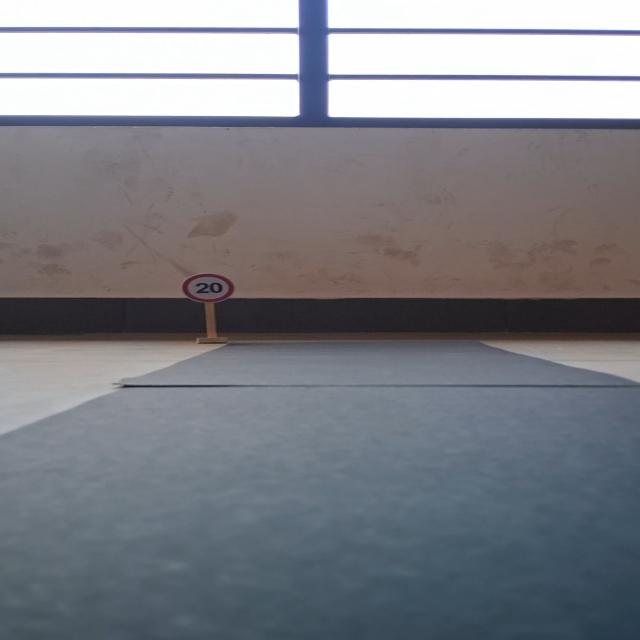Speed20: (179, 270, 239, 306)
